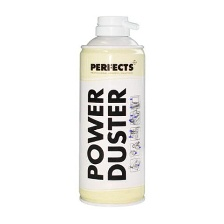aerosol_cans: (73, 8, 149, 209)
